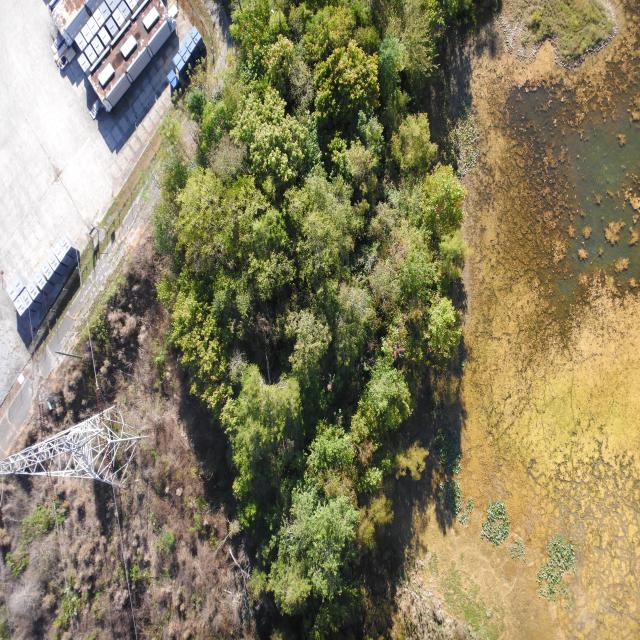Area of Interest: (170, 6, 497, 611)
